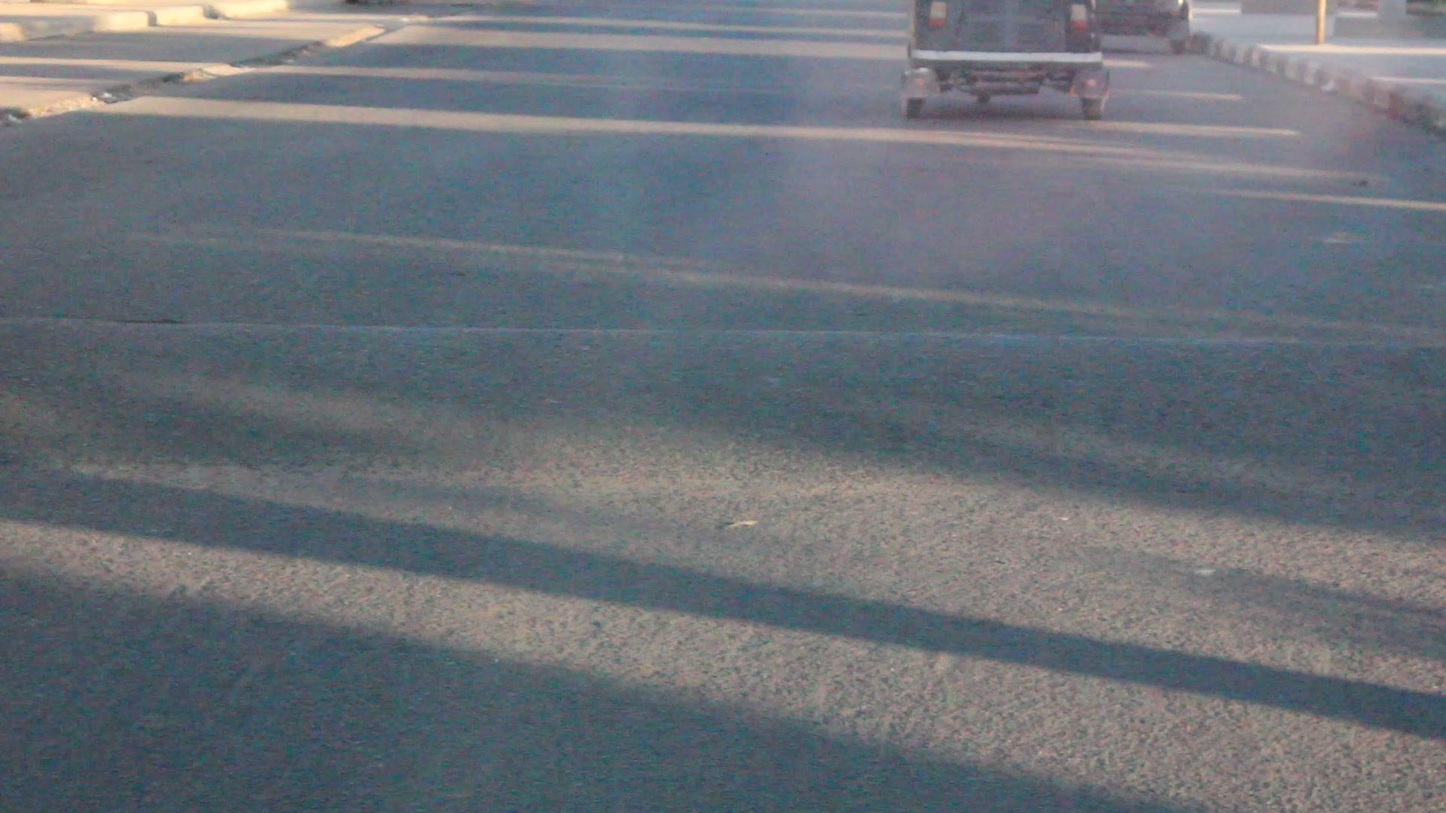Bump: (21, 309, 1446, 501)
